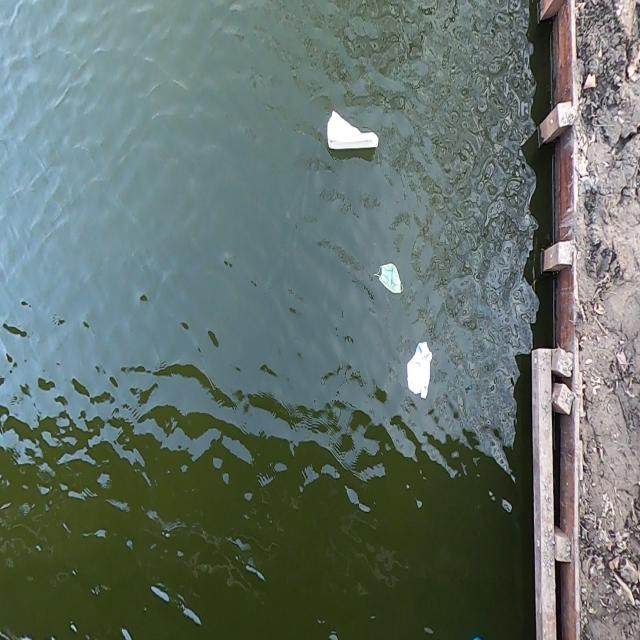Non plastique: (374, 254, 407, 302)
